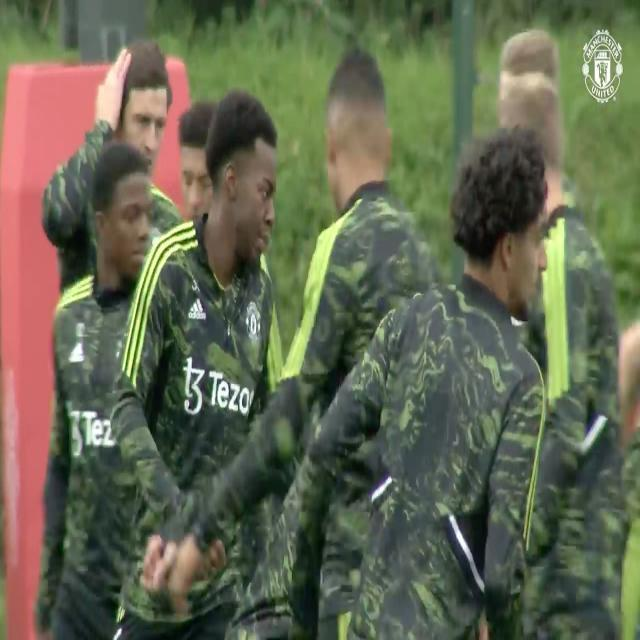Adidas: (188, 297, 207, 320), (70, 343, 85, 362)
